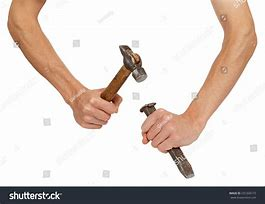hammer: (80, 43, 149, 128)
